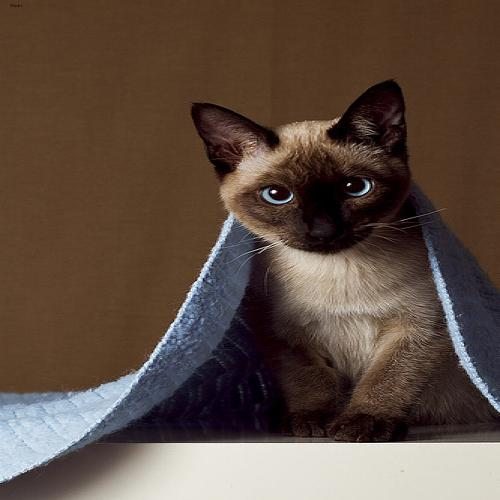siamese: (183, 79, 439, 261)
